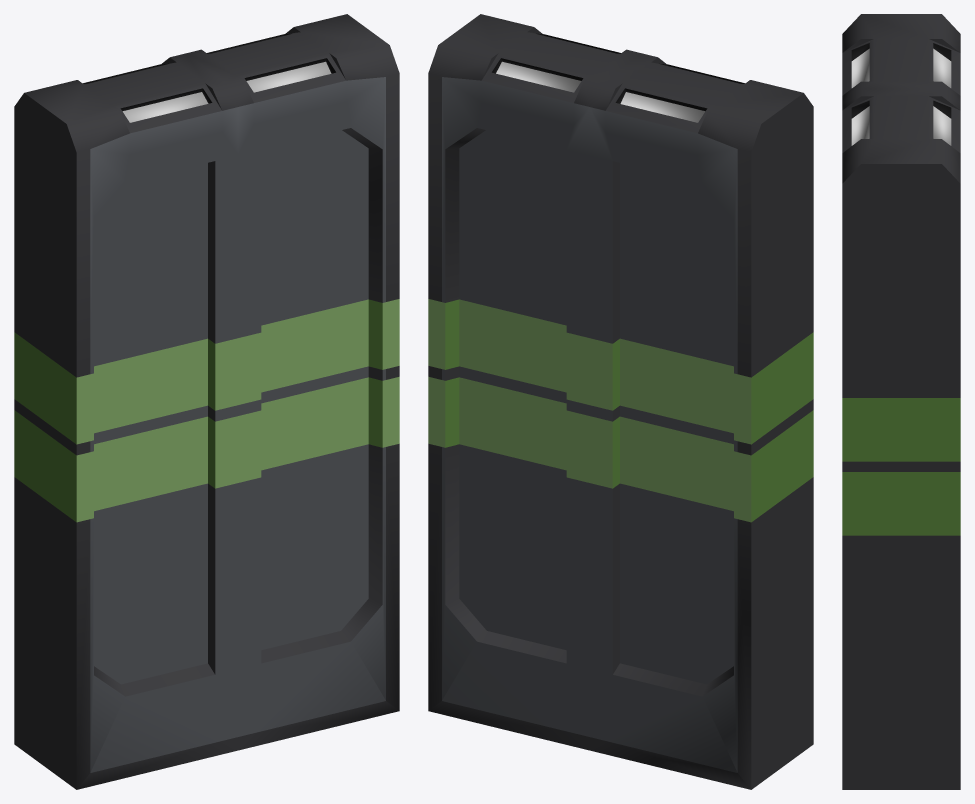
File: airlock.fbx
The picture shows the model from 3 angles, left to right: view 1: azimuth 30°, elevation 25°; view 2: azimuth 150°, elevation 25°; view 3: azimuth 270°, elevation 25°; orthographic projection. The views are drawn at different scales.
Visible parts, largest first — view 1: AirlockStandardLeft.001, AirlockStandardRight; view 2: AirlockStandardLeft.001, AirlockStandardRight; view 3: AirlockStandardRight, AirlockStandardLeft.001.
Part boxes in pixels (bbox=[...]): AirlockStandardLeft.001: bbox=[14, 53, 238, 789]; AirlockStandardRight: bbox=[186, 14, 399, 750]; AirlockStandardLeft.001: bbox=[589, 53, 813, 789]; AirlockStandardRight: bbox=[428, 14, 641, 750]; AirlockStandardRight: bbox=[842, 89, 960, 789]; AirlockStandardLeft.001: bbox=[842, 14, 960, 102].
Size of the model in its own units: 95.9 by 187 by 32.08.
